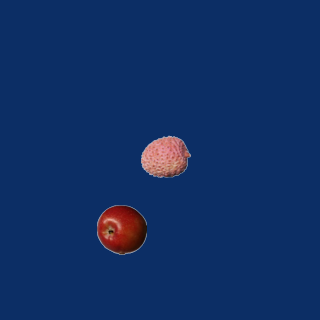Apple Braeburn: (96, 204, 146, 254)
Lychee: (140, 131, 190, 181)
